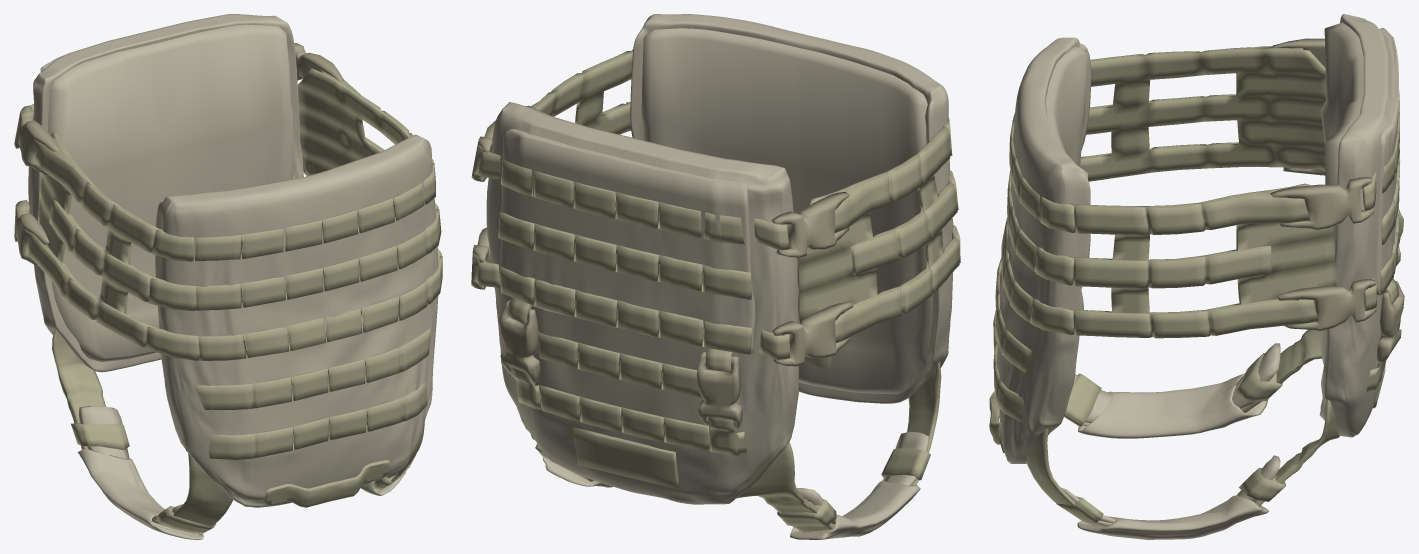
The model's file is Vest.fbx.
The picture shows the model from 3 angles, left to right: view 1: azimuth 30°, elevation 25°; view 2: azimuth 150°, elevation 25°; view 3: azimuth 270°, elevation 25°; orthographic projection. The views are drawn at different scales.
Parts seen in each view (by area): view 1: plate_carrier_01_main, molle_loops_mpc01, padding_mpc01, buckles_mpc01, grabhandle_mpc01; view 2: plate_carrier_01_main, molle_loops_mpc01, padding_mpc01, buckles_mpc01, velcro_mpc01; view 3: molle_loops_mpc01, plate_carrier_01_main, padding_mpc01, buckles_mpc01, grabhandle_mpc01.
Part boxes in pixels (bbox=[...]): plate_carrier_01_main: bbox=[28, 14, 438, 539]; molle_loops_mpc01: bbox=[27, 68, 442, 533]; padding_mpc01: bbox=[47, 24, 395, 519]; buckles_mpc01: bbox=[14, 43, 343, 266]; grabhandle_mpc01: bbox=[264, 460, 389, 507]; plate_carrier_01_main: bbox=[486, 14, 953, 539]; molle_loops_mpc01: bbox=[476, 49, 960, 532]; padding_mpc01: bbox=[525, 28, 933, 523]; buckles_mpc01: bbox=[471, 120, 853, 429]; velcro_mpc01: bbox=[572, 427, 679, 489]; molle_loops_mpc01: bbox=[993, 46, 1400, 526]; plate_carrier_01_main: bbox=[997, 14, 1398, 539]; padding_mpc01: bbox=[1046, 22, 1363, 523]; buckles_mpc01: bbox=[1270, 38, 1404, 363]; grabhandle_mpc01: bbox=[989, 391, 1004, 452].
Size of the model in its own units: 209 by 234 by 214.
